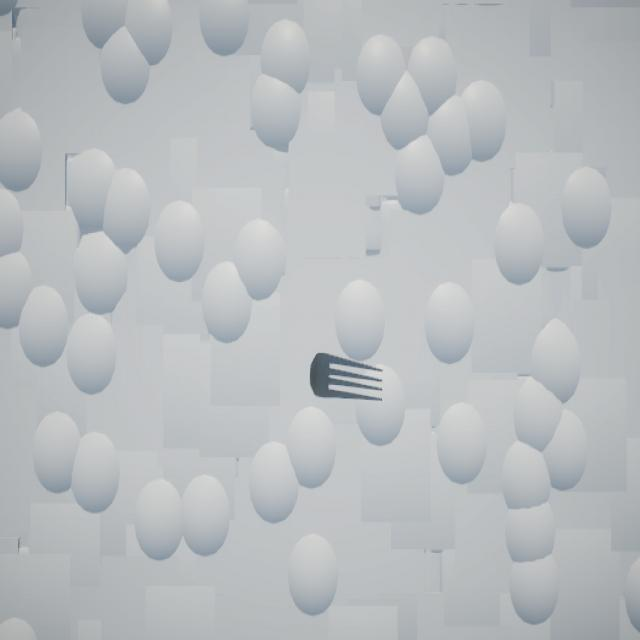top_folk: (310, 354, 385, 402)
